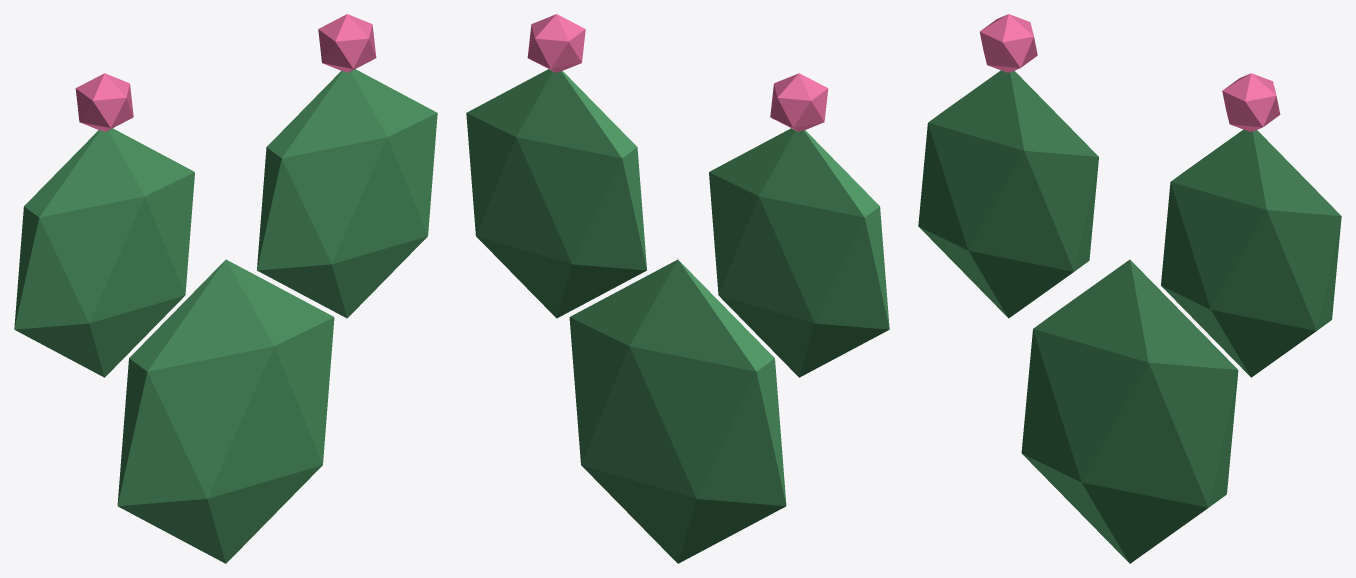
Rendered from prickly_pear.fbx.
The picture shows the model from 3 angles, left to right: view 1: azimuth 30°, elevation 25°; view 2: azimuth 150°, elevation 25°; view 3: azimuth 330°, elevation 25°; orthographic projection.
Visible parts, largest first — view 1: prickly_pear; view 2: prickly_pear; view 3: prickly_pear.
Boxes of the visible parts, x1,y1,x2,y2 form: prickly_pear: (14,14,437,563); prickly_pear: (466,14,889,563); prickly_pear: (918,14,1341,563).
Size of the model in its own units: 1.05 by 1.23 by 0.1276.
